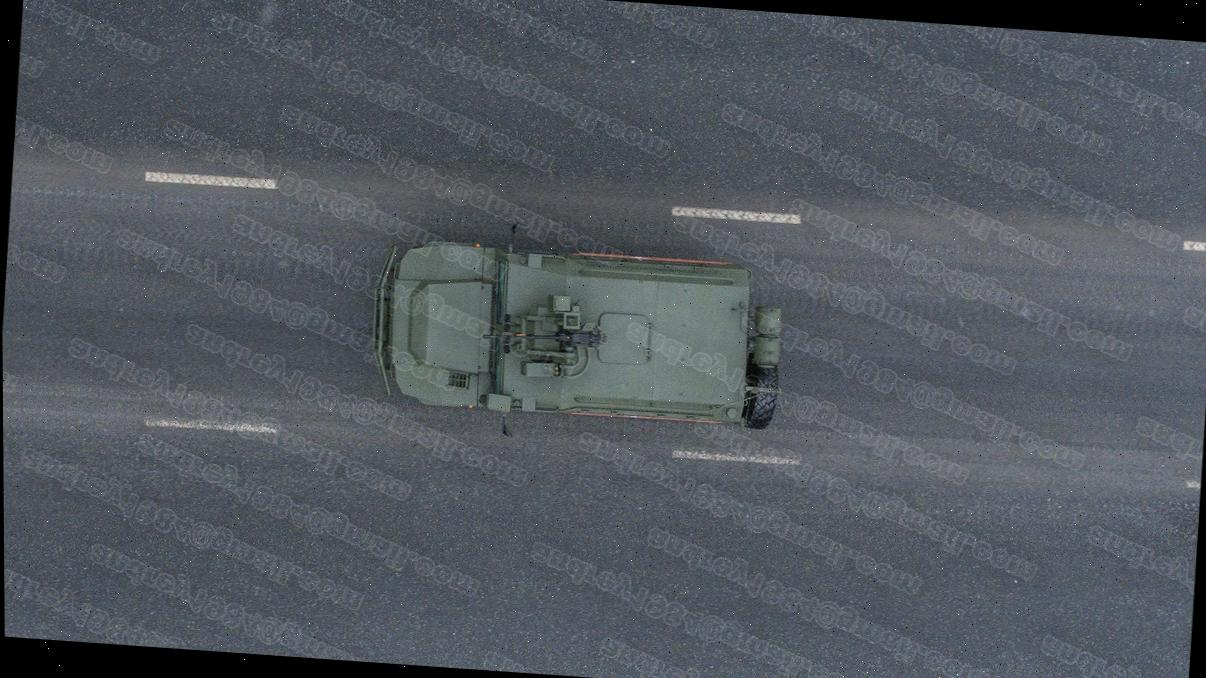armored_car: (369, 232, 792, 433)
